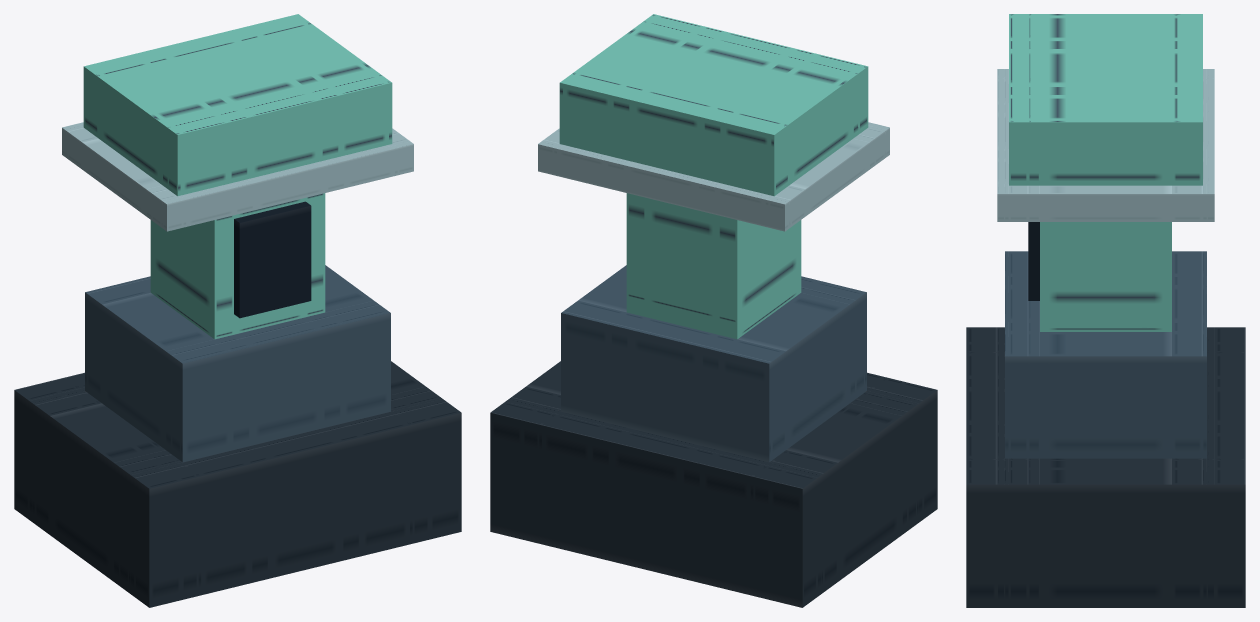
File: sc_robot_beacon.obj
The picture shows the model from 3 angles, left to right: view 1: azimuth 30°, elevation 25°; view 2: azimuth 150°, elevation 25°; view 3: azimuth 270°, elevation 25°; orthographic projection. The views are drawn at different scales.
Bounding box in the file's own units: 9.6 × 13.1 × 7.2.
Materials: 1 (1 with a texture image).
